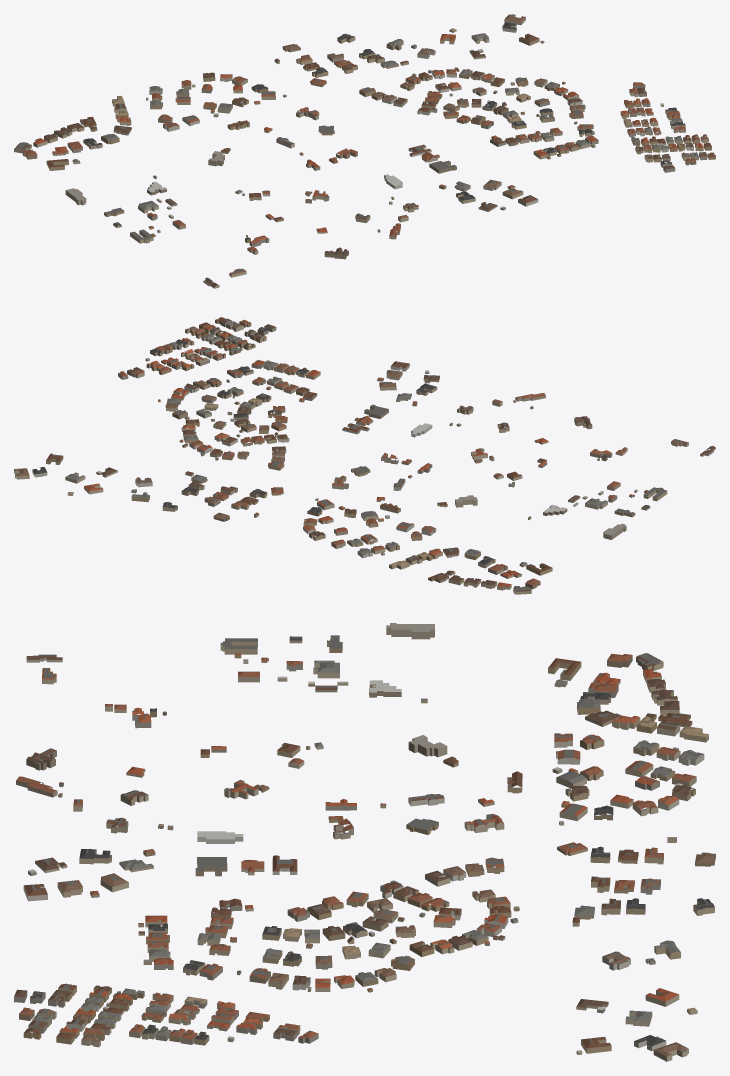
3 views of the same model, one above another, from view 1: azimuth 30°, elevation 25°; view 2: azimuth 150°, elevation 25°; view 3: azimuth 270°, elevation 25° (orthographic). The views are drawn at different scales.
Parts seen in each view (by area): view 1: buildings_r3_c1_lod1; view 2: buildings_r3_c1_lod1; view 3: buildings_r3_c1_lod1.
Boxes of the visible parts, box(x1,y1,x2,y2) form: buildings_r3_c1_lod1: box(14, 14, 715, 288); buildings_r3_c1_lod1: box(14, 317, 715, 594); buildings_r3_c1_lod1: box(14, 623, 715, 1061).
Bounding box in the file's own units: 1140 × 46.92 × 799.
